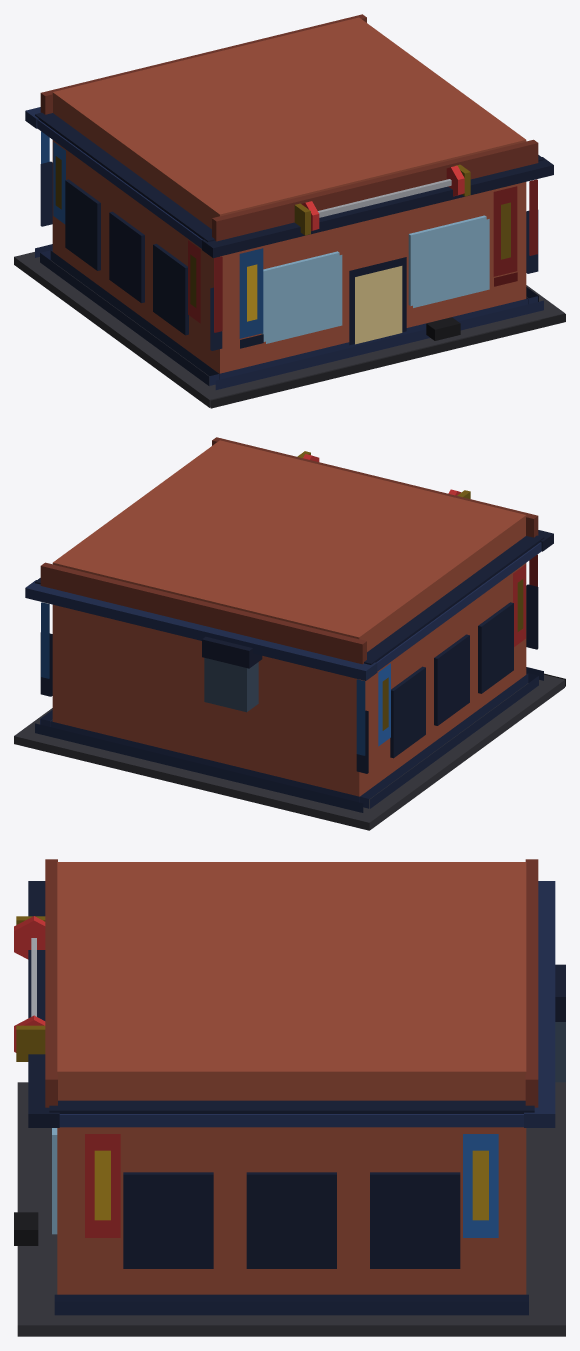
The model's file is BuffRatSil.fbx.
The picture shows the model from 3 angles, top to bottom: view 1: azimuth 30°, elevation 25°; view 2: azimuth 150°, elevation 25°; view 3: azimuth 270°, elevation 25°; orthographic projection. The views are drawn at different scales.
Parts seen in each view (by area): view 1: BR_S_All; view 2: BR_S_All; view 3: BR_S_All.
Part boxes in pixels (left/top/right/bottom): BR_S_All: left=14, top=14, right=565, bottom=408; BR_S_All: left=14, top=437, right=565, bottom=830; BR_S_All: left=14, top=859, right=565, bottom=1336.
Size of the model in its own units: 42.04 by 20 by 40.31.
